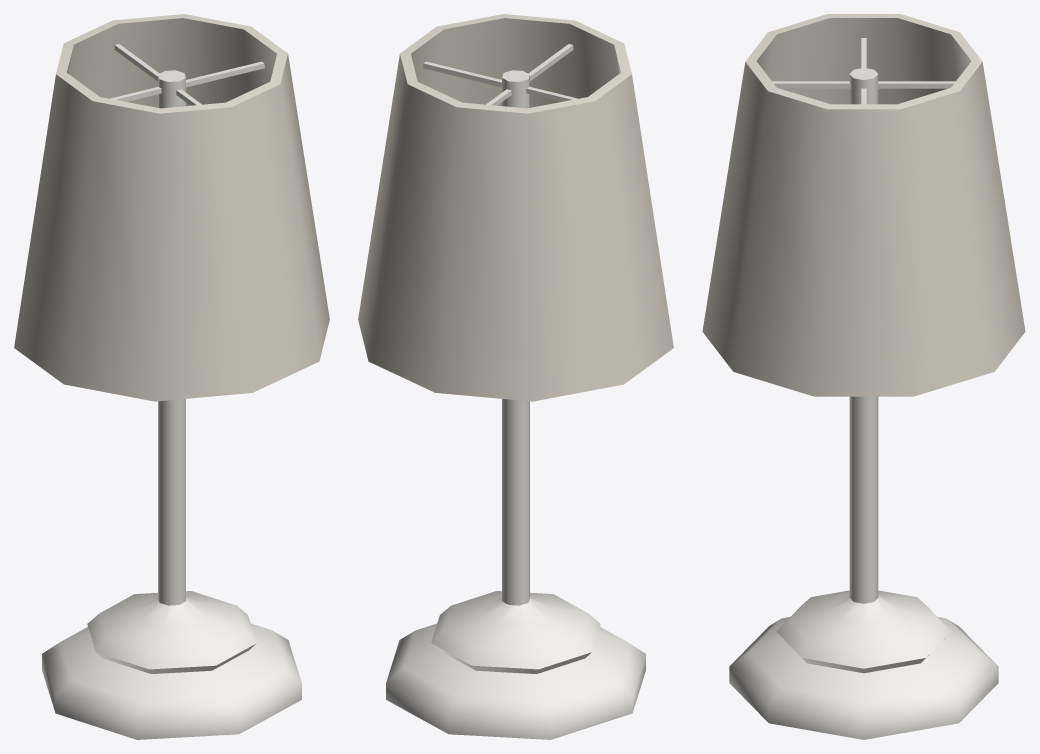
Rendered from pk_lamp_gourd.glb.
The picture shows the model from 3 angles, left to right: view 1: azimuth 30°, elevation 25°; view 2: azimuth 150°, elevation 25°; view 3: azimuth 270°, elevation 25°; orthographic projection.
Visible parts, largest first — view 1: pk_lamp_gourd; view 2: pk_lamp_gourd; view 3: pk_lamp_gourd.
Boxes of the visible parts, x1,y1,x2,y2 form: pk_lamp_gourd: [14, 14, 329, 739]; pk_lamp_gourd: [358, 14, 673, 739]; pk_lamp_gourd: [702, 14, 1025, 739].
Bounding box in the file's own units: 0.3223 × 0.72 × 0.3389.
Materials: 1 (1 with a texture image).
